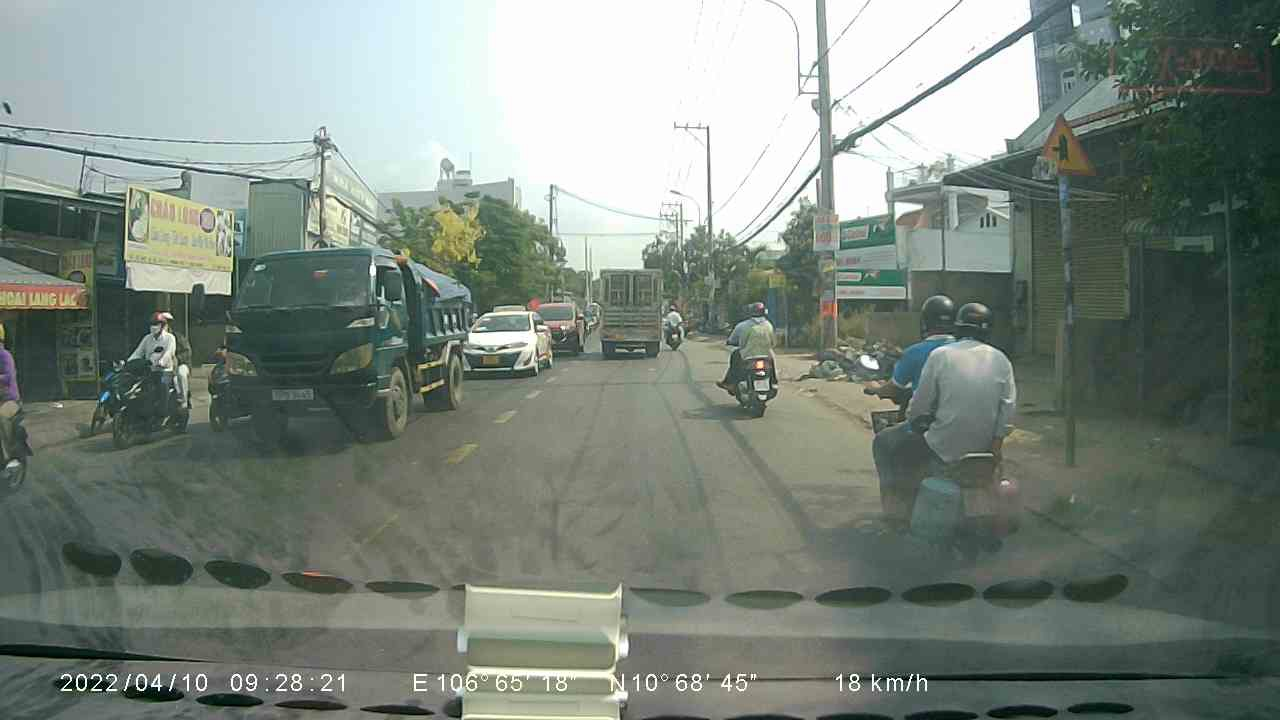Giao nhau voi duong khong uu tien: (1035, 109, 1102, 176)
